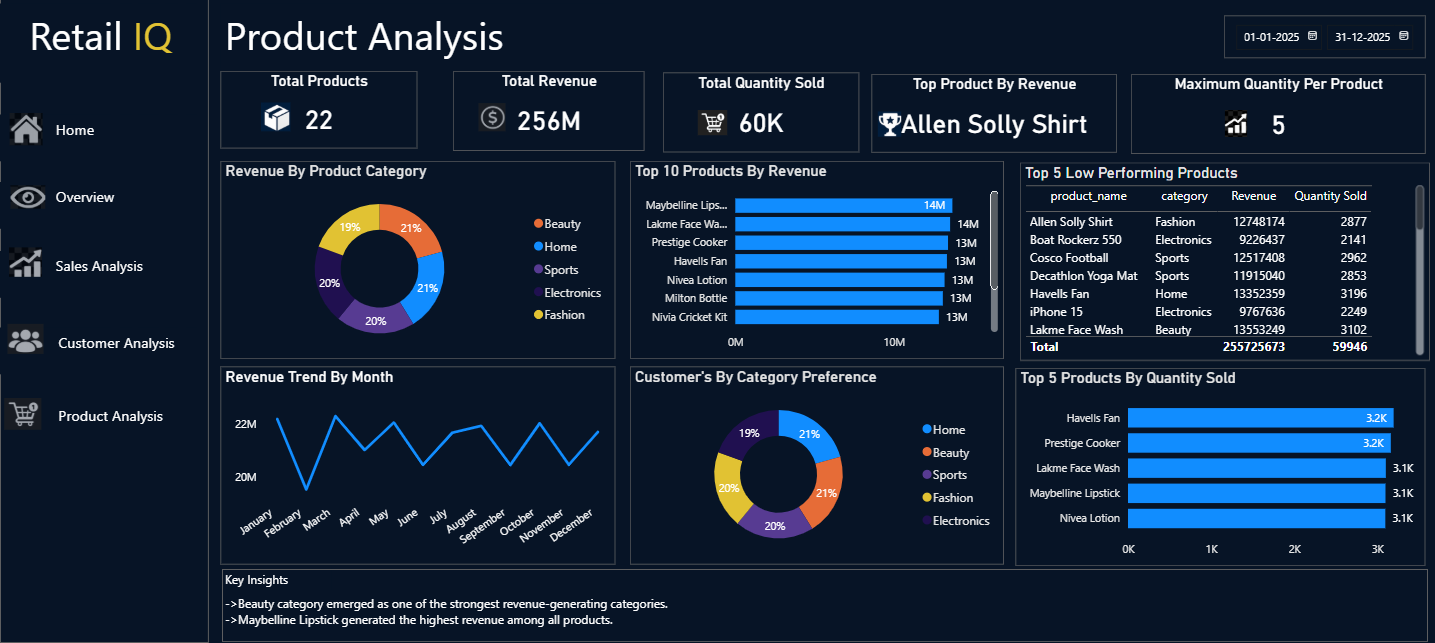

What the dashboard file says about the page in this screenshot:
{"tool":"powerbi","page":{"name":"Product Analysis","canvas":[1600,720],"ordinal":4},"visuals":[{"type":"shape","box":[0,0,232,720],"z":0},{"type":"textbox","box":[0,8,224,88],"z":1000},{"type":"textbox","box":[0,132,224,52],"z":2000},{"type":"textbox","box":[0,206,224,52],"z":3000},{"type":"textbox","box":[0,284,224,52],"z":4000},{"type":"textbox","box":[0,368,224,52],"z":5000},{"type":"card","title":"Total Products","fields":{"Values":["Count(Cleaned_Ecommercedataset.product_name)"]},"box":[245.7,82.9,218.6,85.7],"z":6000},{"type":"card","title":"Total Revenue","fields":{"Values":["Sum(Cleaned_Ecommercedataset.order_value)"]},"box":[502.9,82.9,212.9,88.6],"z":7000},{"type":"card","title":"Total Quantity Sold","fields":{"Values":["Sum(Cleaned_Ecommercedataset.quantity)"]},"box":[736.3,85.2,217.7,89],"z":8000},{"type":"card","title":"Top Product By Revenue","fields":{"Values":["Min(Cleaned_Ecommercedataset.product_name)"]},"box":[969.1,87.1,272.6,87.1],"z":9000},{"type":"image","box":[3.3,446.7,43.3,35],"z":10000},{"type":"image","box":[8.3,358.3,40,45],"z":11000},{"type":"image","box":[10,130,38,36],"z":12000},{"type":"image","box":[10,273.3,36.7,45],"z":13000},{"type":"textbox","box":[46.7,450,176.7,51.7],"z":14000},{"type":"image","box":[11.7,205,38.3,36.7],"z":15000},{"type":"textbox","box":[245.7,8.6,437.1,71.4],"z":16000},{"type":"donutChart","title":"Revenue By Product Category","fields":{"Y":["Sum(Cleaned_Ecommercedataset.order_value)"],"Category":["Cleaned_Ecommercedataset.category"]},"box":[245,183.3,438.3,220],"z":17000},{"type":"clusteredBarChart","title":"Top 10 Products By Revenue","fields":{"Category":["Cleaned_Ecommercedataset.product_name"],"Y":["Sum(Cleaned_Ecommercedataset.order_value)"]},"box":[700,183.3,415,220],"z":18000},{"type":"clusteredBarChart","title":"Top 5 Products By Quantity Sold","fields":{"Y":["Sum(Cleaned_Ecommercedataset.quantity)"],"Category":["Cleaned_Ecommercedataset.product_name"]},"box":[1127.5,412.5,455,220],"z":19000},{"type":"slicer","fields":{"Values":["Cleaned_Ecommercedataset.order_date"]},"box":[1360,21.4,224.3,47.1],"z":20000},{"type":"lineChart","title":"Revenue Trend By Month","fields":{"Category":["Cleaned_Ecommercedataset.order_date.Variation.Date Hierarchy.Month"],"Y":["Sum(Cleaned_Ecommercedataset.order_value)"]},"box":[245,411.7,438.3,220],"z":21000},{"type":"donutChart","title":"Customer''s By Category Preference","fields":{"Y":["Sum(Cleaned_Ecommercedataset.quantity)"],"Category":["Cleaned_Ecommercedataset.category"]},"box":[700,412,415,220],"z":22000},{"type":"card","title":"Maximum Quantity Per Product","fields":{"Values":["Max(Cleaned_Ecommercedataset.quantity)"]},"box":[1256.8,87.1,327.4,89],"z":23000},{"type":"tableEx","title":"Top 5 Low Performing Products","fields":{"Values":["Cleaned_Ecommercedataset.product_name","Cleaned_Ecommercedataset.category","Sum(Cleaned_Ecommercedataset.order_value)","Sum(Cleaned_Ecommercedataset.quantity)"]},"box":[1132.5,185,455,220],"z":24000},{"type":"textbox","box":[245,633.3,123.3,31.7],"z":25000},{"type":"textbox","box":[245,660,1340,53.3],"z":26000},{"type":"shape","box":[246,636,1340,82],"z":27000},{"type":"shape","box":[3.3,198.3,195,61.7],"z":29000},{"type":"shape","box":[8.3,115,195,61.7],"z":30000},{"type":"image","box":[284,118,46,32],"z":31000},{"type":"image","box":[766,126,50,28],"z":32000},{"type":"image","box":[1348,126,50,30],"z":33000},{"type":"shape","box":[3.8,266.9,195,62.5],"z":35000},{"type":"image","box":[532,112,30,46],"z":36000},{"type":"image","box":[964,128,50,28],"z":37000}]}

Visuals, with their boxes on the page's 1600x720 design canvas (x1, y1, x2, y2). These are canvas units, not pixel positions in the 1435x643 screenshot, which may show the page scaled, cropped or inside an application window:
shape: <box>0,0,232,720</box>
textbox: <box>0,8,224,96</box>
textbox: <box>0,132,224,184</box>
textbox: <box>0,206,224,258</box>
textbox: <box>0,284,224,336</box>
textbox: <box>0,368,224,420</box>
"Total Products" card: <box>246,83,464,169</box>
"Total Revenue" card: <box>503,83,716,172</box>
"Total Quantity Sold" card: <box>736,85,954,174</box>
"Top Product By Revenue" card: <box>969,87,1242,174</box>
image: <box>3,447,47,482</box>
image: <box>8,358,48,403</box>
image: <box>10,130,48,166</box>
image: <box>10,273,47,318</box>
textbox: <box>47,450,223,502</box>
image: <box>12,205,50,242</box>
textbox: <box>246,9,683,80</box>
"Revenue By Product Category" donutChart: <box>245,183,683,403</box>
"Top 10 Products By Revenue" clusteredBarChart: <box>700,183,1115,403</box>
"Top 5 Products By Quantity Sold" clusteredBarChart: <box>1128,412,1582,632</box>
slicer - Cleaned_Ecommercedataset.order_date: <box>1360,21,1584,68</box>
"Revenue Trend By Month" lineChart: <box>245,412,683,632</box>
"Customer''s By Category Preference" donutChart: <box>700,412,1115,632</box>
"Maximum Quantity Per Product" card: <box>1257,87,1584,176</box>
"Top 5 Low Performing Products" tableEx: <box>1132,185,1588,405</box>
textbox: <box>245,633,368,665</box>
textbox: <box>245,660,1585,713</box>
shape: <box>246,636,1586,718</box>
shape: <box>3,198,198,260</box>
shape: <box>8,115,203,177</box>
image: <box>284,118,330,150</box>
image: <box>766,126,816,154</box>
image: <box>1348,126,1398,156</box>
shape: <box>4,267,199,329</box>
image: <box>532,112,562,158</box>
image: <box>964,128,1014,156</box>
